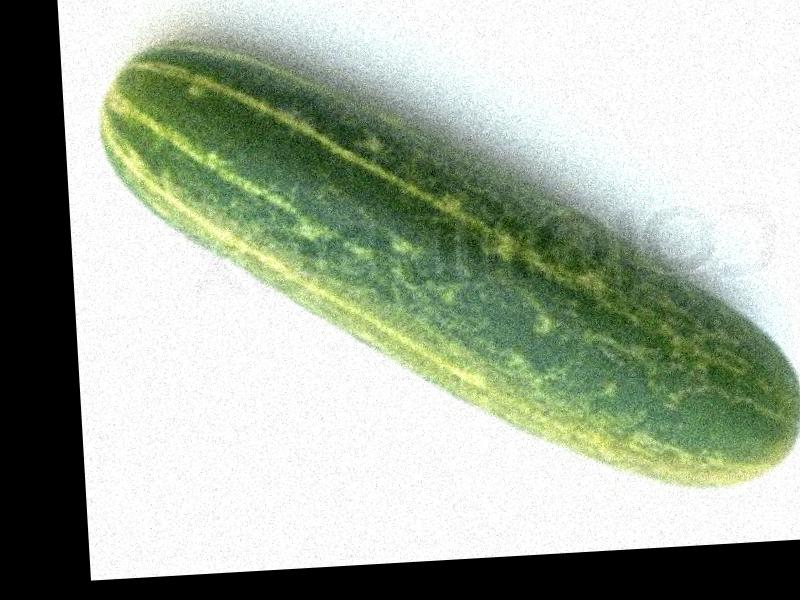Cucumber: (91, 10, 800, 525)
